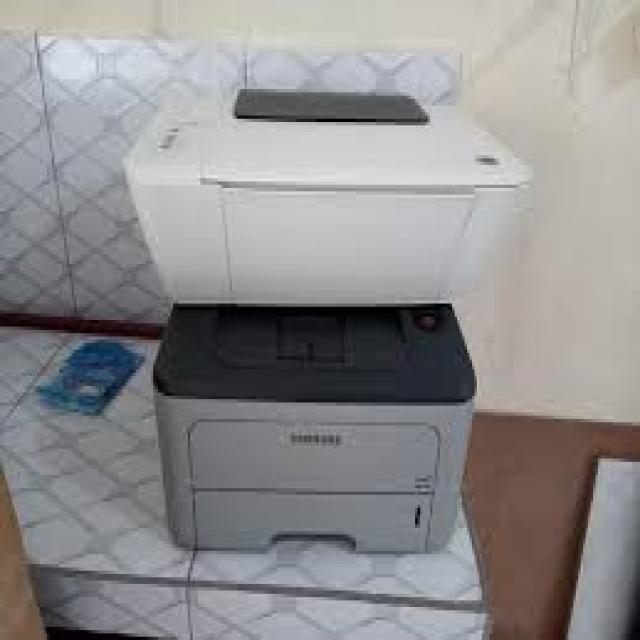printer: (125, 87, 536, 304), (152, 305, 478, 554)
